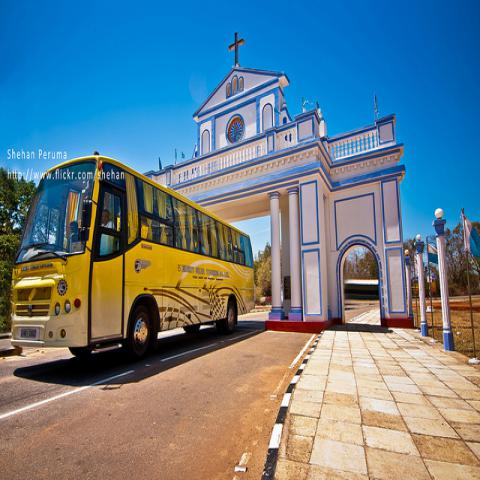bus: (7, 154, 256, 360)
